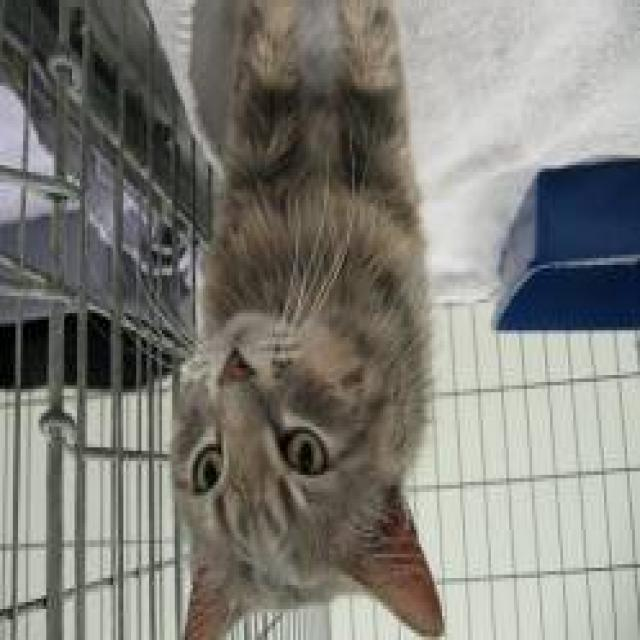Kucing: (118, 45, 478, 640)
